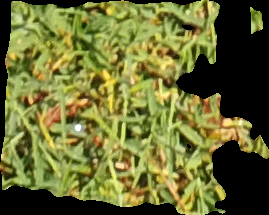grass: (1, 1, 268, 213)
